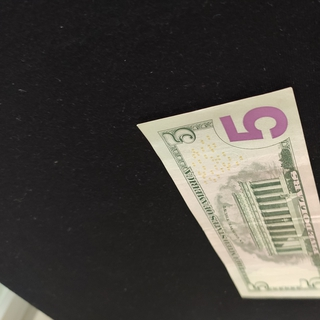5USDBack: (136, 86, 320, 300)
